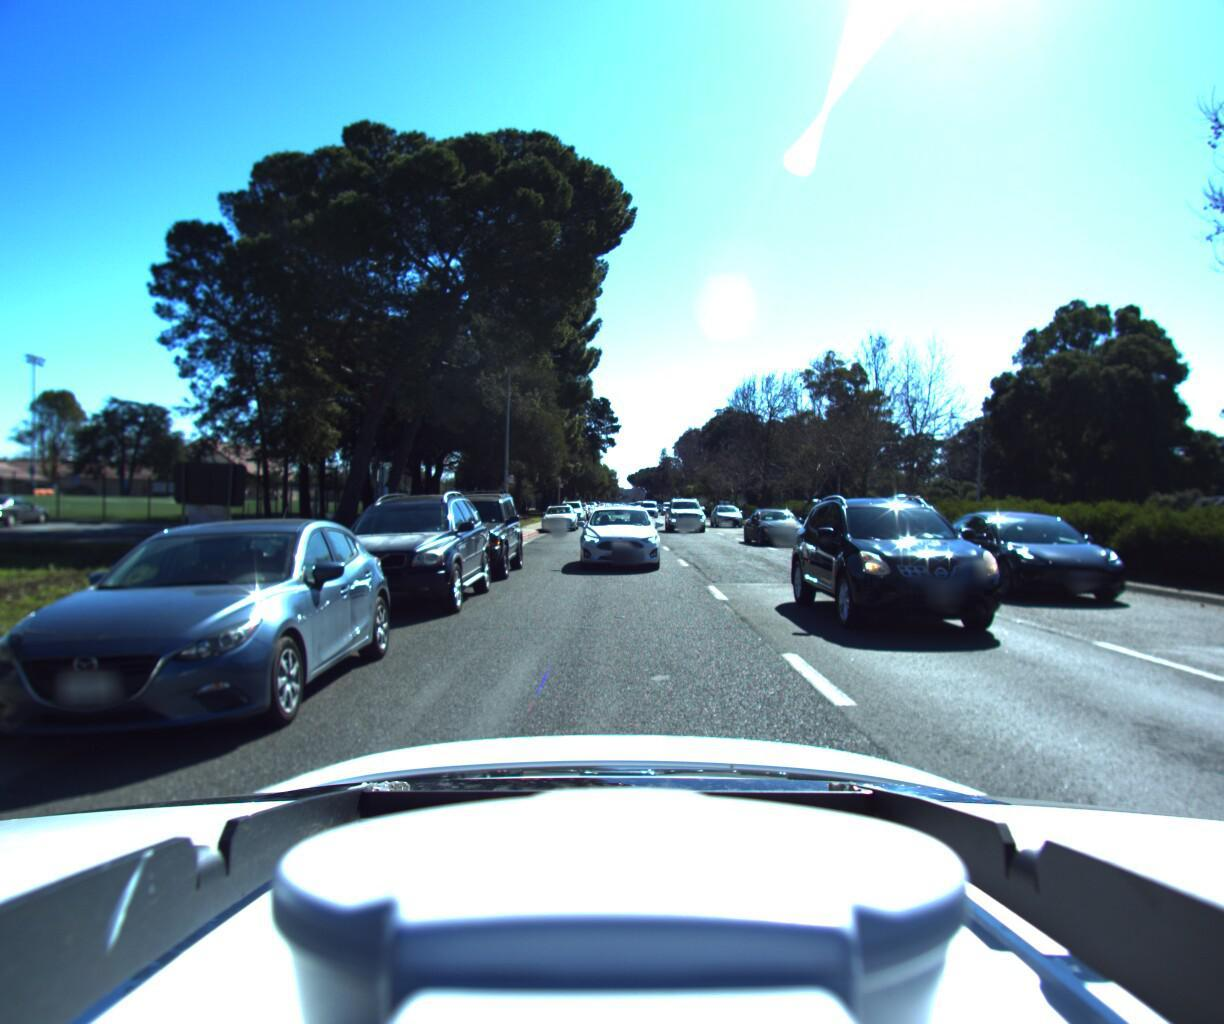car: (0, 496, 397, 766), (801, 483, 1100, 666), (303, 480, 490, 624), (931, 513, 1160, 612), (403, 479, 521, 583), (571, 500, 659, 573), (739, 507, 818, 548), (662, 495, 711, 535), (536, 502, 574, 531), (707, 504, 746, 530), (637, 499, 659, 518)
other_vehicle: (1179, 477, 1224, 578), (873, 491, 937, 532)
